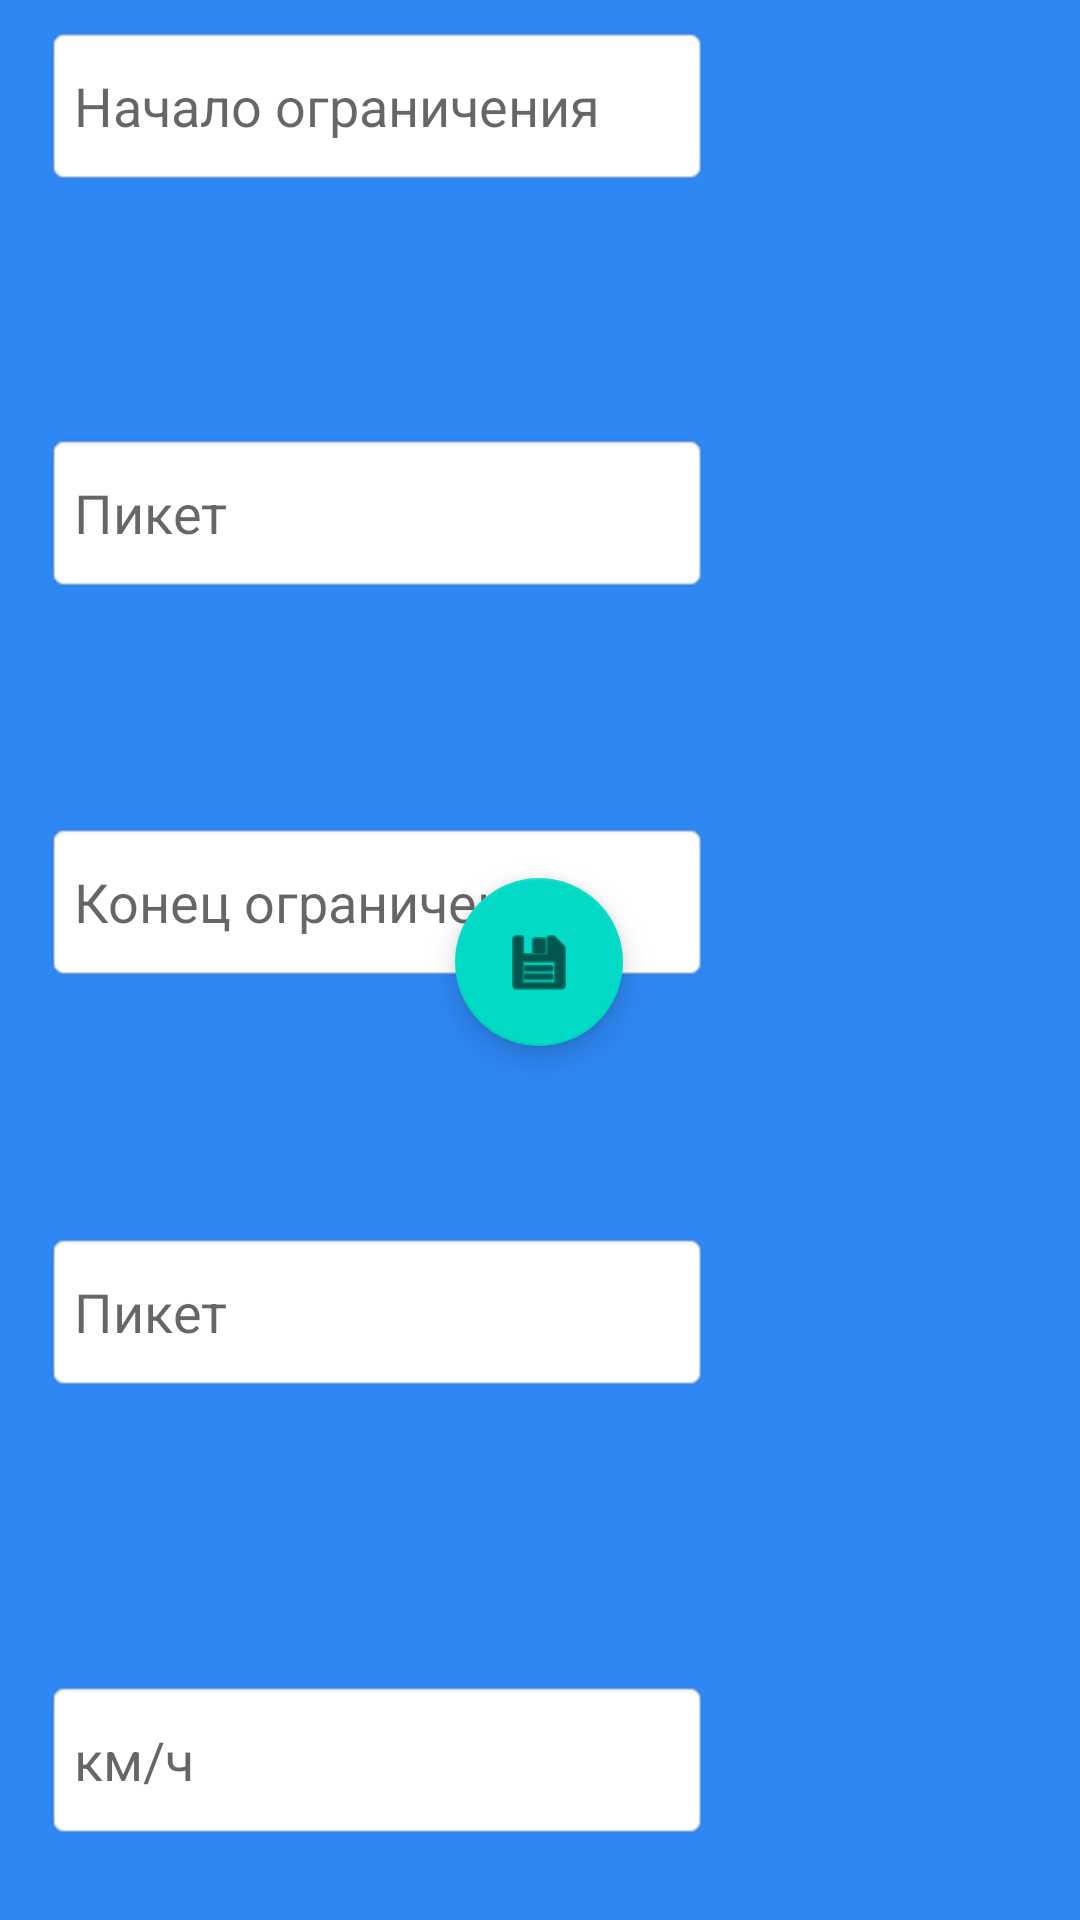

Named icons in this screenshot (1080px x 1920px) and their centers, (x,y):
save: (539,962)
